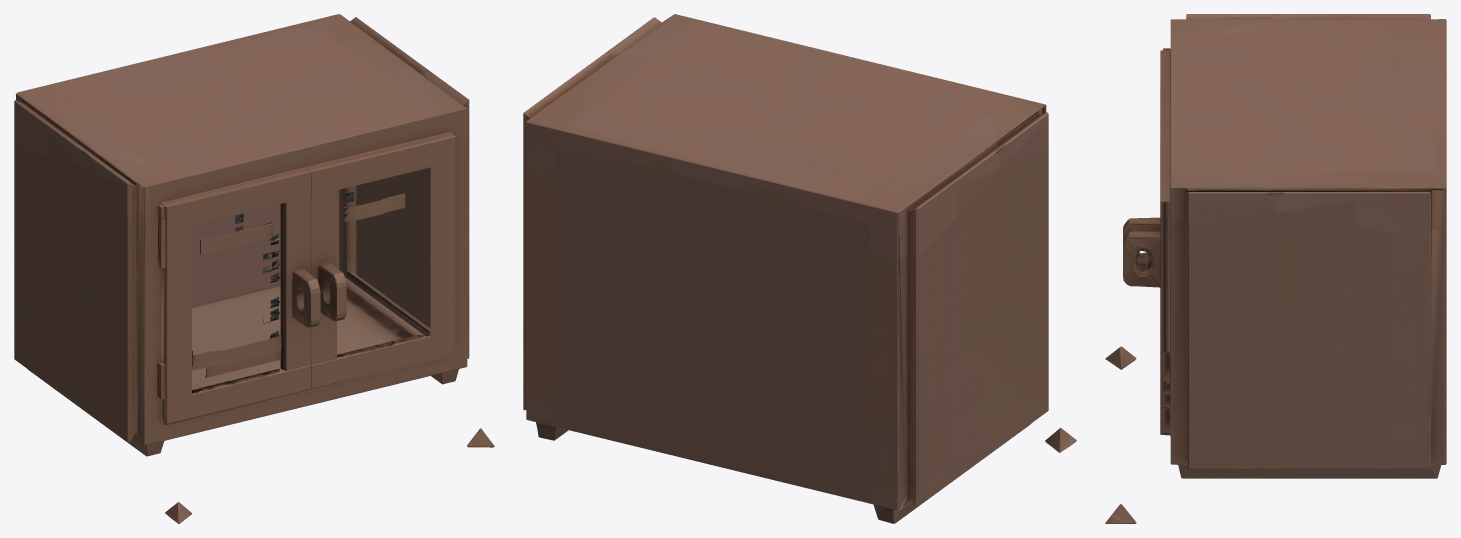
File: hangingcab.fbx
3 renders of one model, left to right at view 1: azimuth 30°, elevation 25°; view 2: azimuth 150°, elevation 25°; view 3: azimuth 270°, elevation 25°, orthographic. The views are drawn at different scales.
Visible parts, largest first — view 1: Mesh_0; view 2: Mesh_0; view 3: Mesh_0.
Boxes of the visible parts, bbox=[...] form: Mesh_0: bbox=[14, 14, 494, 523]; Mesh_0: bbox=[523, 14, 1076, 523]; Mesh_0: bbox=[1105, 14, 1446, 523].
Bounding box in the file's own units: 2.72 × 2.4 × 2.19.
1 material, 1 textured.
